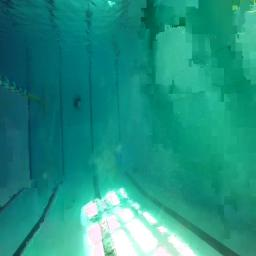Full: (74, 101, 82, 108)
